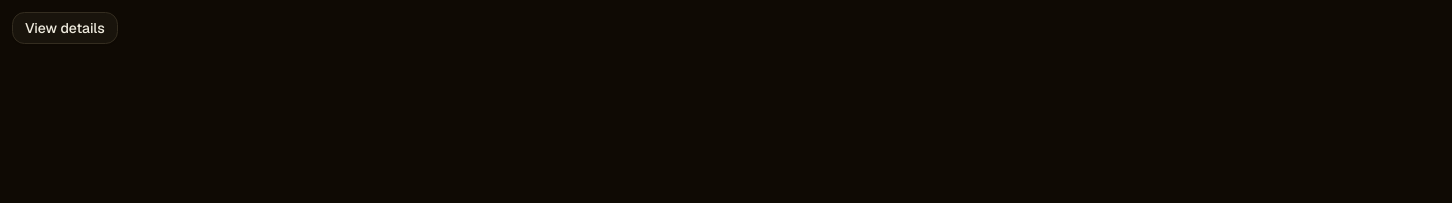
Test: loads the selected session and displays each saved set
Click the button "View details" at (65, 28), box [12, 12, 118, 44]
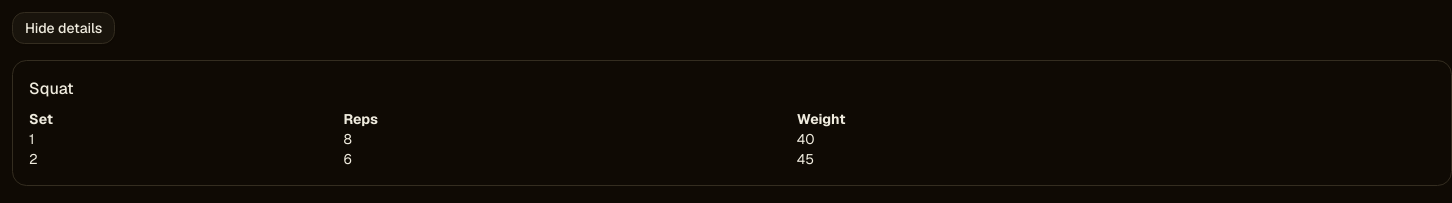
Result: the heading "Squat" is shown at [29, 78, 74, 99]
